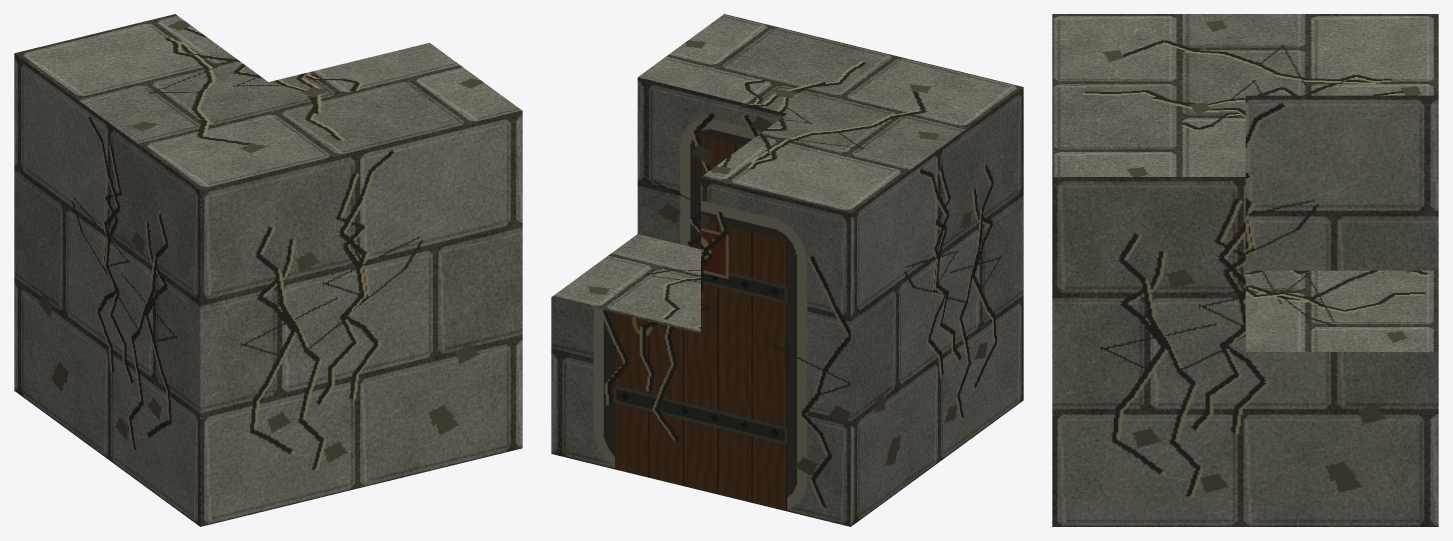
The model's file is magazine_z2.glb.
3 renders of one model, left to right at view 1: azimuth 30°, elevation 25°; view 2: azimuth 150°, elevation 25°; view 3: azimuth 270°, elevation 25°, orthographic. The views are drawn at different scales.
Parts seen in each view (by area): view 1: magazine_z2; view 2: magazine_z2; view 3: magazine_z2.
Part boxes in pixels (x1,y1,x2,y2): magazine_z2: (14, 14, 522, 526); magazine_z2: (551, 14, 1023, 526); magazine_z2: (1052, 14, 1438, 526).
Size of the model in its own units: 1 by 1 by 1.
Materials: 1 (1 with a texture image).
